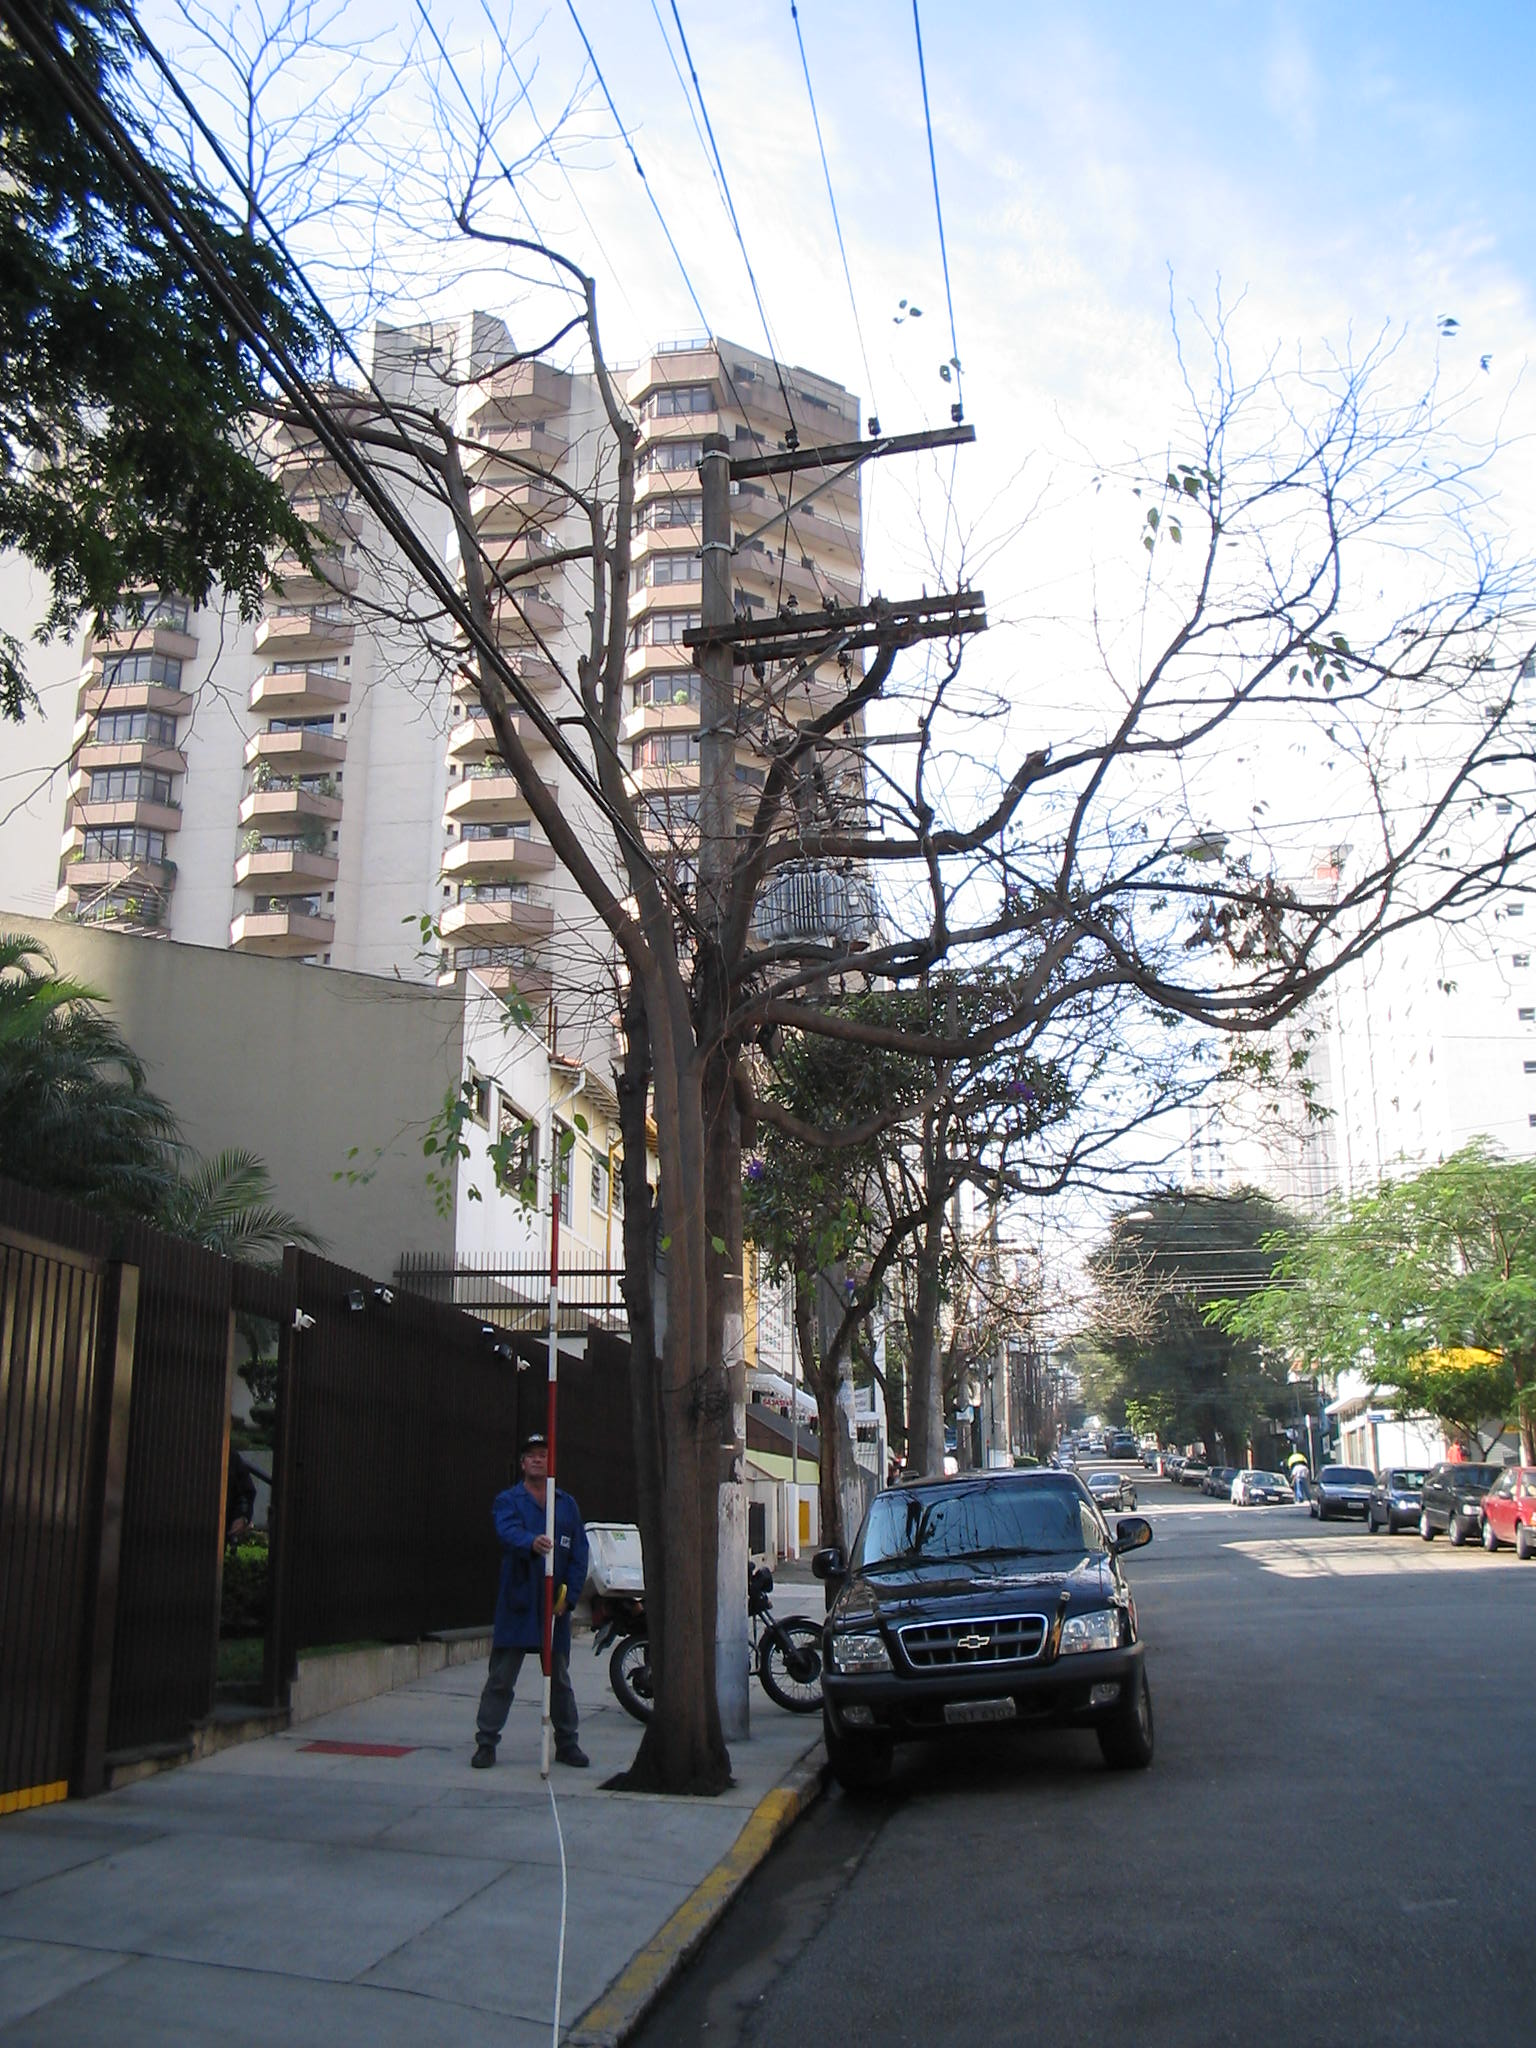stem: (611, 1350, 766, 1784)
stick: (524, 1190, 587, 1784)
tree: (207, 11, 1530, 1787)
